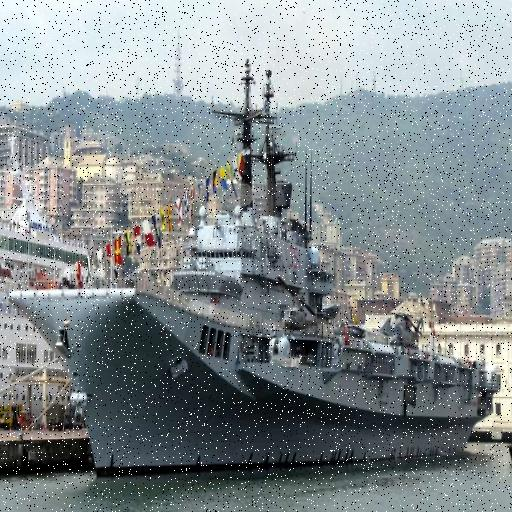Portanaves: (6, 43, 507, 486)
